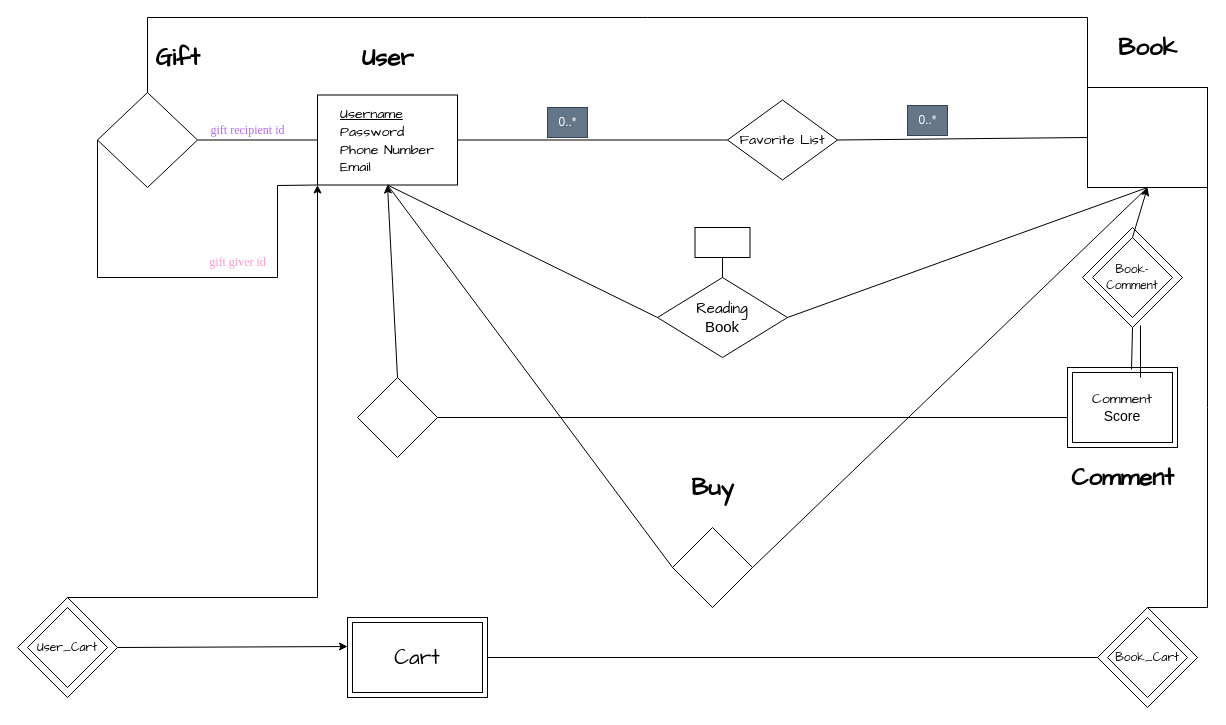
The diagram is 1226 pixels wide and 725 high, and some of its shapes have lost their labels. Here are the shapes that lost their labels. From the top down, the centre of each, then its label:
At pixel 147 140: "gift-g-id gift-r-id Book-id Check".
At pixel 1147 137: "Book-Id Prescription Author Type Genre".
At pixel 722 242: "Page".
At pixel 397 417: "Note".
At pixel 712 567: "Username Book-id".
